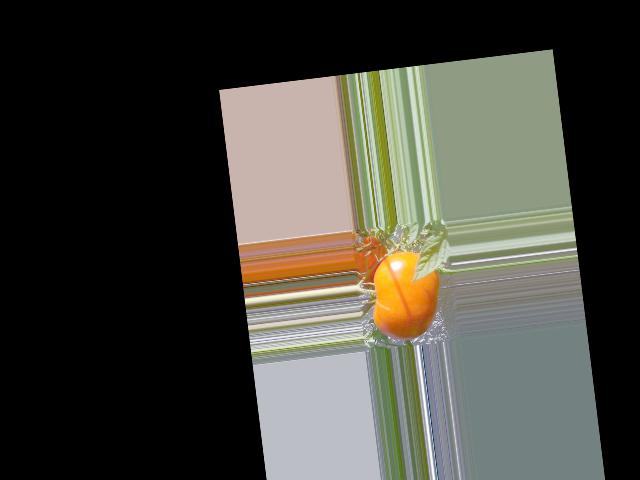tomato: (366, 247, 445, 343)
